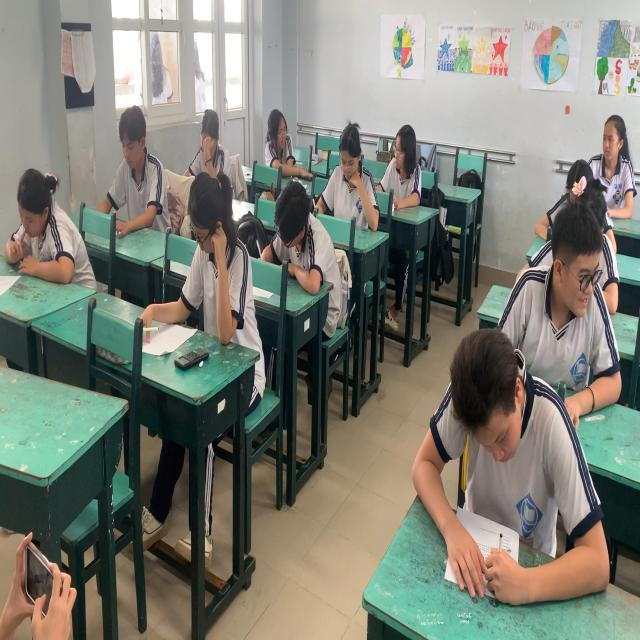cheating: (504, 222, 624, 384), (563, 88, 640, 232), (375, 117, 437, 226), (252, 84, 308, 184)
not_cheating: (398, 321, 604, 625), (172, 147, 256, 394), (1, 101, 86, 283), (258, 141, 343, 307), (530, 116, 616, 280), (91, 93, 173, 252), (317, 118, 383, 274), (181, 96, 230, 192)
